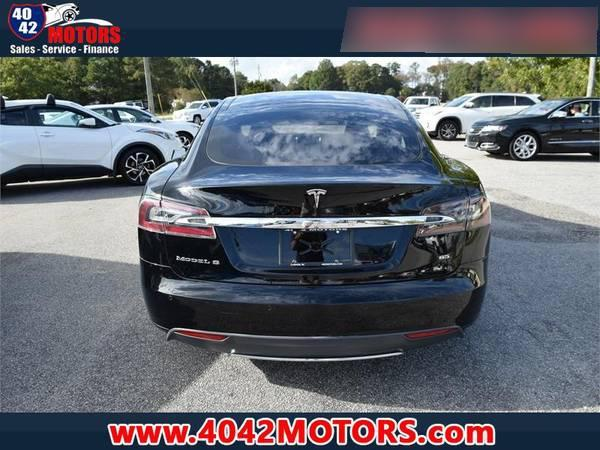Left_Taillight: (139, 186, 216, 238)
Rear_Bumper: (140, 222, 489, 351)
Rear_Windshield: (208, 103, 419, 163)
Right_Taillight: (419, 195, 497, 239)
Roof: (181, 87, 441, 169)
Tailgate: (149, 155, 485, 284)
